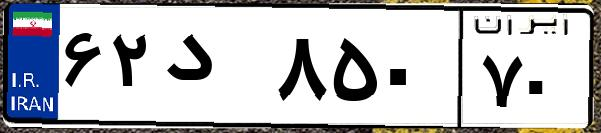0: (385, 28, 445, 110), (525, 38, 570, 115)
2: (110, 28, 158, 98)
5: (330, 28, 385, 110)
6: (57, 26, 110, 100)
7: (475, 38, 525, 113)
8: (270, 28, 330, 110)
د: (158, 20, 270, 120)
